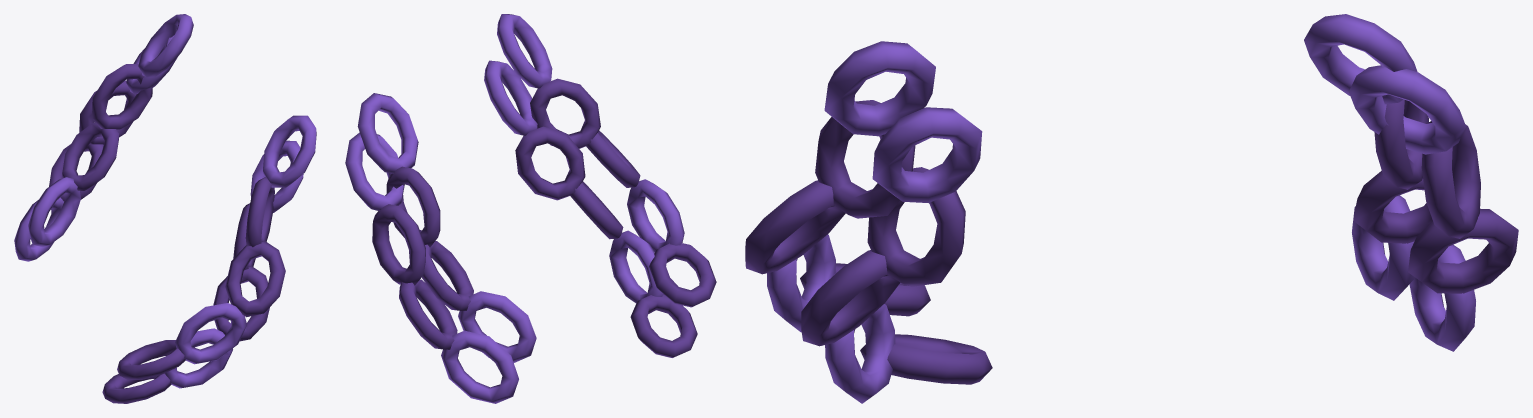
Rendered from dark_doom_parts.glb.
The picture shows the model from 3 angles, left to right: view 1: azimuth 30°, elevation 25°; view 2: azimuth 150°, elevation 25°; view 3: azimuth 270°, elevation 25°; orthographic projection. The views are drawn at different scales.
Parts seen in each view (by area): view 1: r1_CC_Base_Spine02, r0_mixamorig_Spine2; view 2: r0_mixamorig_Spine2, r1_CC_Base_Spine02; view 3: r0_mixamorig_Spine2, r1_CC_Base_Spine02.
Part boxes in pixels (x1,y1,x2,y2): r1_CC_Base_Spine02: [28, 14, 316, 379]; r0_mixamorig_Spine2: [14, 35, 303, 403]; r0_mixamorig_Spine2: [345, 60, 697, 403]; r1_CC_Base_Spine02: [357, 14, 716, 362]; r0_mixamorig_Spine2: [801, 65, 1518, 403]; r1_CC_Base_Spine02: [745, 14, 1432, 332].
Bounding box in the file's own units: 0.5052 × 0.6715 × 0.9022.
